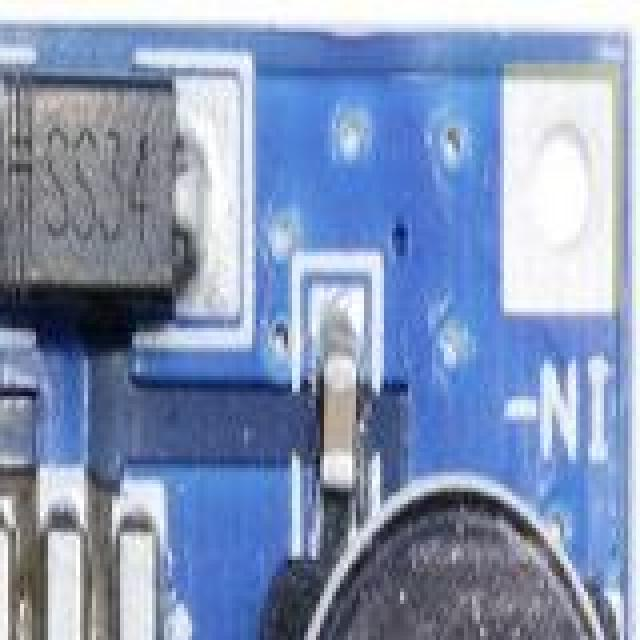IC: (0, 500, 204, 640)
capacitor: (264, 472, 636, 640), (300, 332, 358, 528)
diode: (0, 88, 212, 312)
